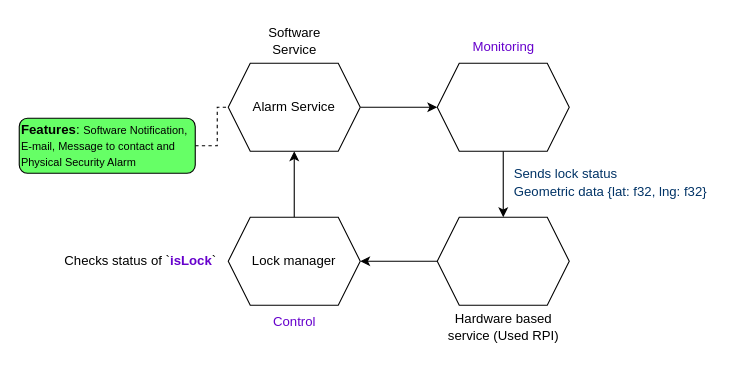
Some shapes in this 751 by 367 pixel diagram are drawn without their labels. Here are the shapes that lost their labels. From the top down, the box of each, then its label:
(436, 62, 569, 151): Sensors
(436, 216, 569, 305): Theft controller
